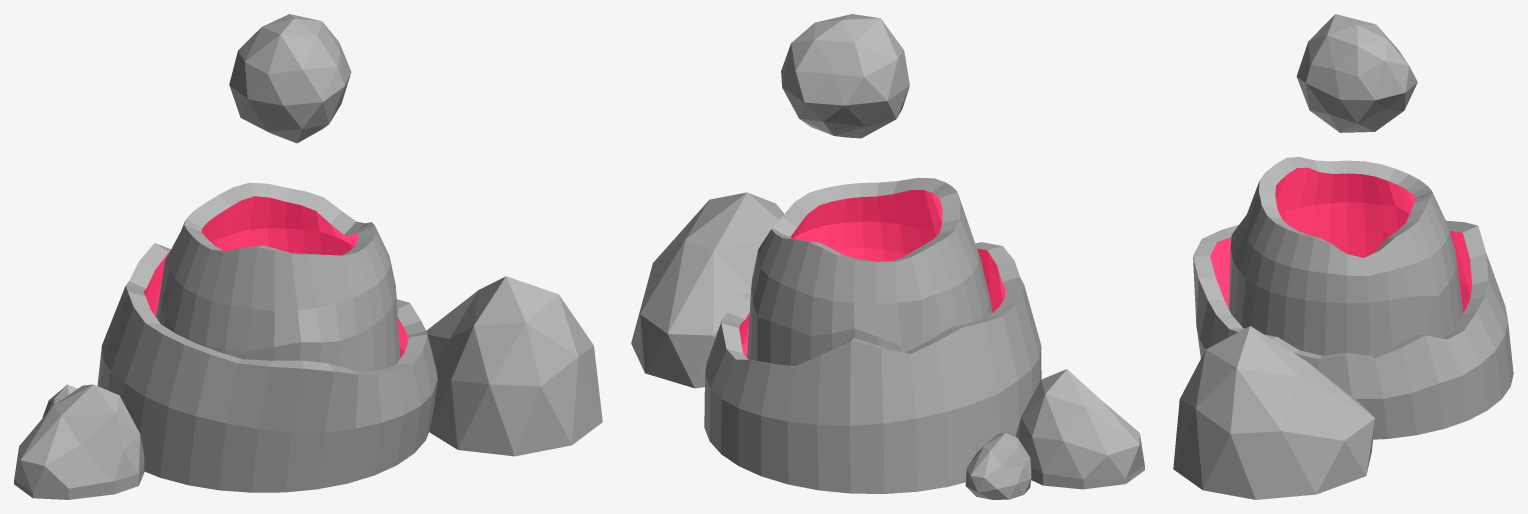
File: lvl1B.fbx
3 views of the same model, side by side, from view 1: azimuth 30°, elevation 25°; view 2: azimuth 150°, elevation 25°; view 3: azimuth 270°, elevation 25° (orthographic). The views are drawn at different scales.
Parts seen in each view (by area): view 1: lvl1B; view 2: lvl1B; view 3: lvl1B.
Part boxes in pixels (x1=…): lvl1B: x1=14, y1=14, x2=602, y2=499; lvl1B: x1=631, y1=14, x2=1144, y2=499; lvl1B: x1=1173, y1=14, x2=1513, y2=499.
Size of the model in its own units: 418 by 299 by 253.
